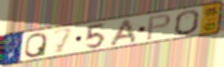5: (83, 21, 108, 50)
7: (51, 27, 74, 56)
A: (108, 18, 138, 48)
O: (174, 9, 202, 37)
P: (145, 12, 173, 42)
Q: (23, 32, 48, 59)
